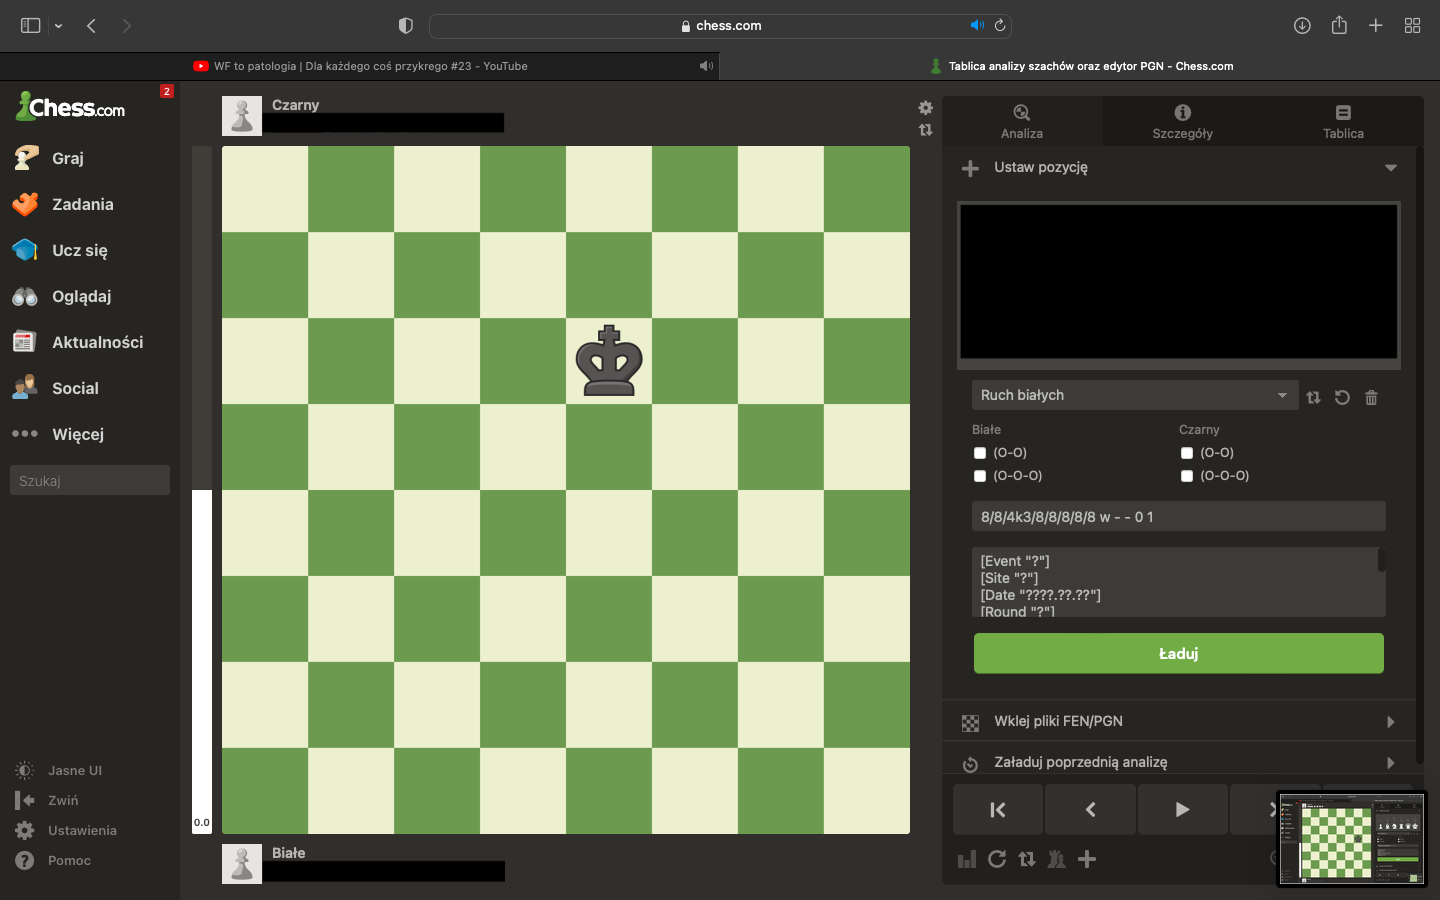black_king: (575, 324, 644, 398)
